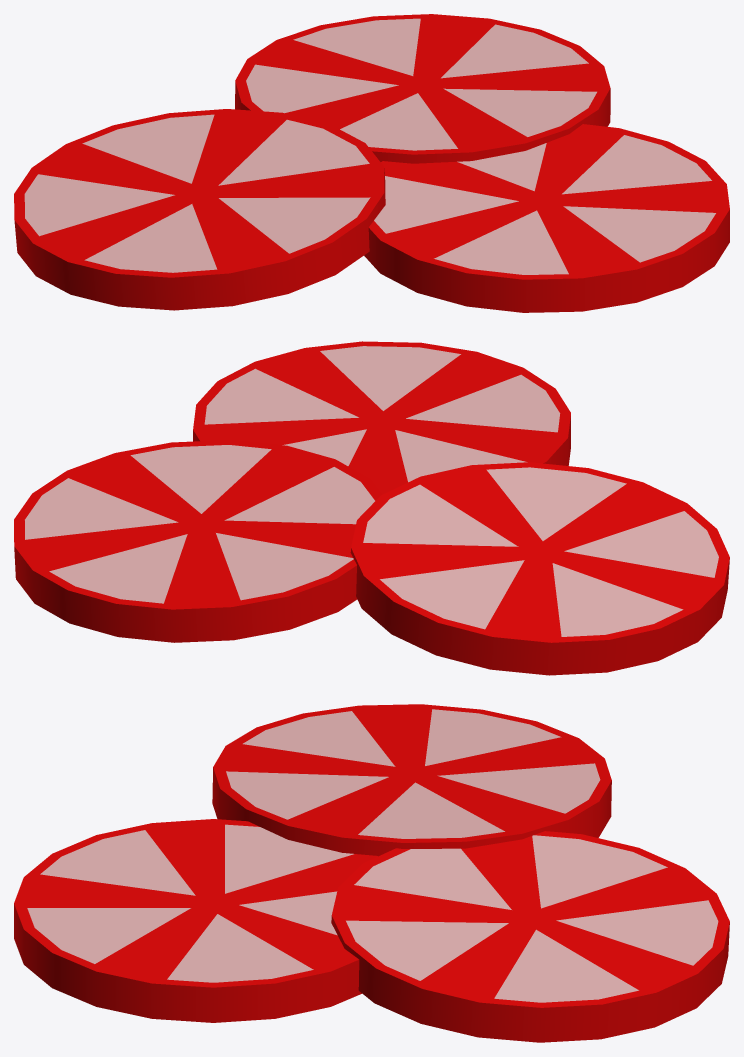
File: JitomatePreparado.fbx
3 renders of one model, top to bottom at view 1: azimuth 30°, elevation 25°; view 2: azimuth 150°, elevation 25°; view 3: azimuth 270°, elevation 25°, orthographic. The views are drawn at different scales.
Parts seen in each view (by area): view 1: pCylinder70; view 2: pCylinder70; view 3: pCylinder70.
Boxes of the visible parts, x1=… form: pCylinder70: x1=14, y1=14, x2=729, y2=312; pCylinder70: x1=14, y1=341, x2=729, y2=675; pCylinder70: x1=14, y1=704, x2=729, y2=1042.
Bounding box in the file's own units: 3.71 × 0.3571 × 3.59.
